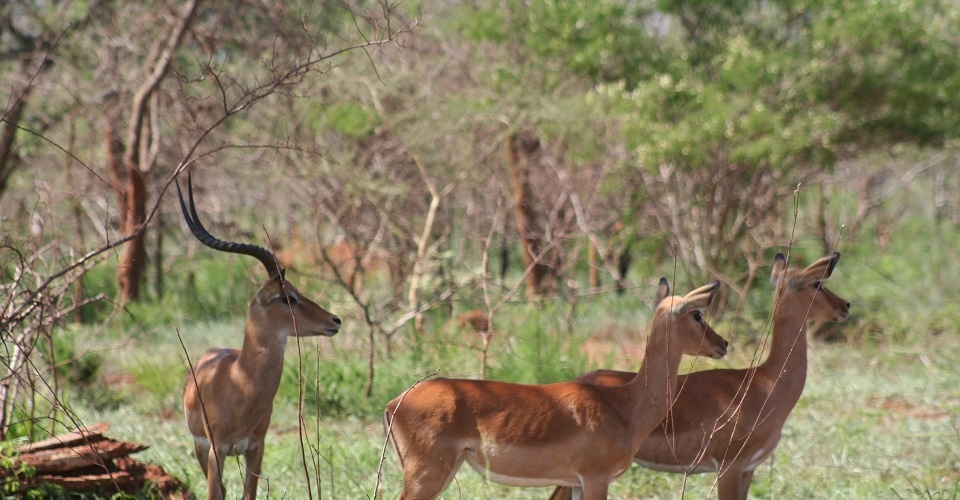impala: (375, 272, 732, 500), (563, 246, 852, 500), (168, 170, 350, 500)
